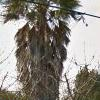Palm tree: (12, 7, 78, 99)
